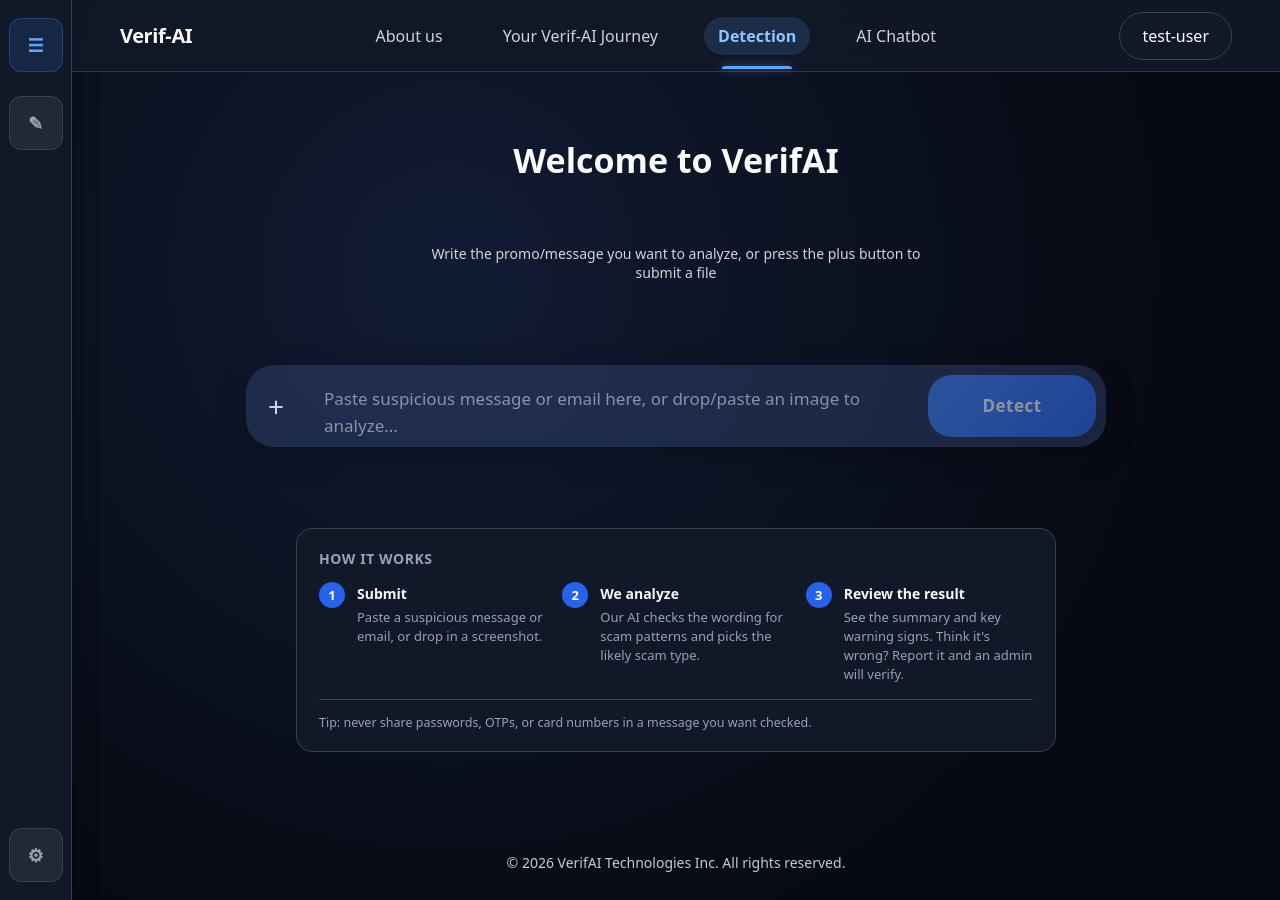
Test: Detection image analysis errors › shows a retry action instead of presenting a failed history request as empty
Click the button named "Menu": x=36, y=45 [8,18,62,72]
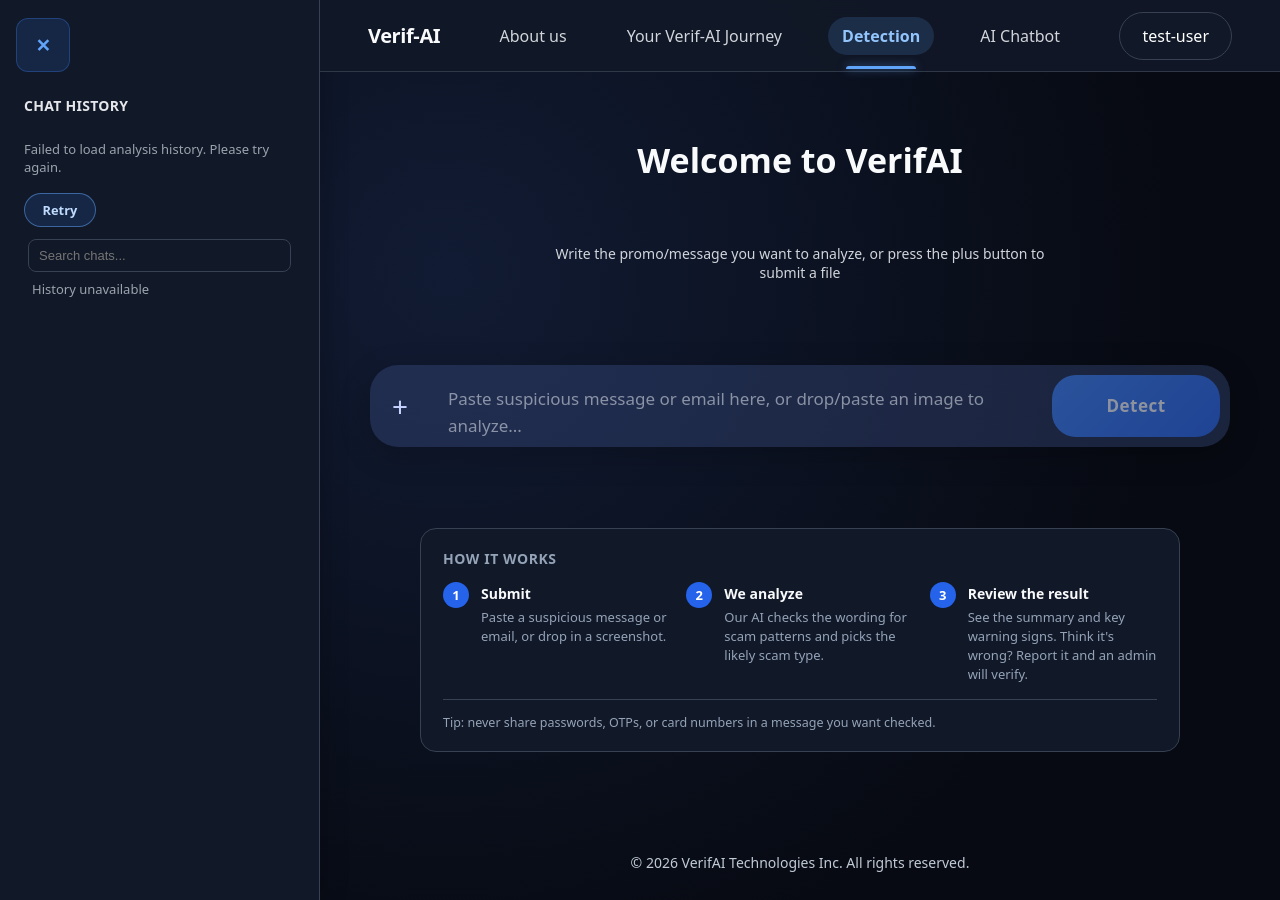
Expected: the message shows "Failed to load analysis history. Please try again.", [24,140,269,176]
Click the button "Retry": x=60, y=210 [24,193,96,227]
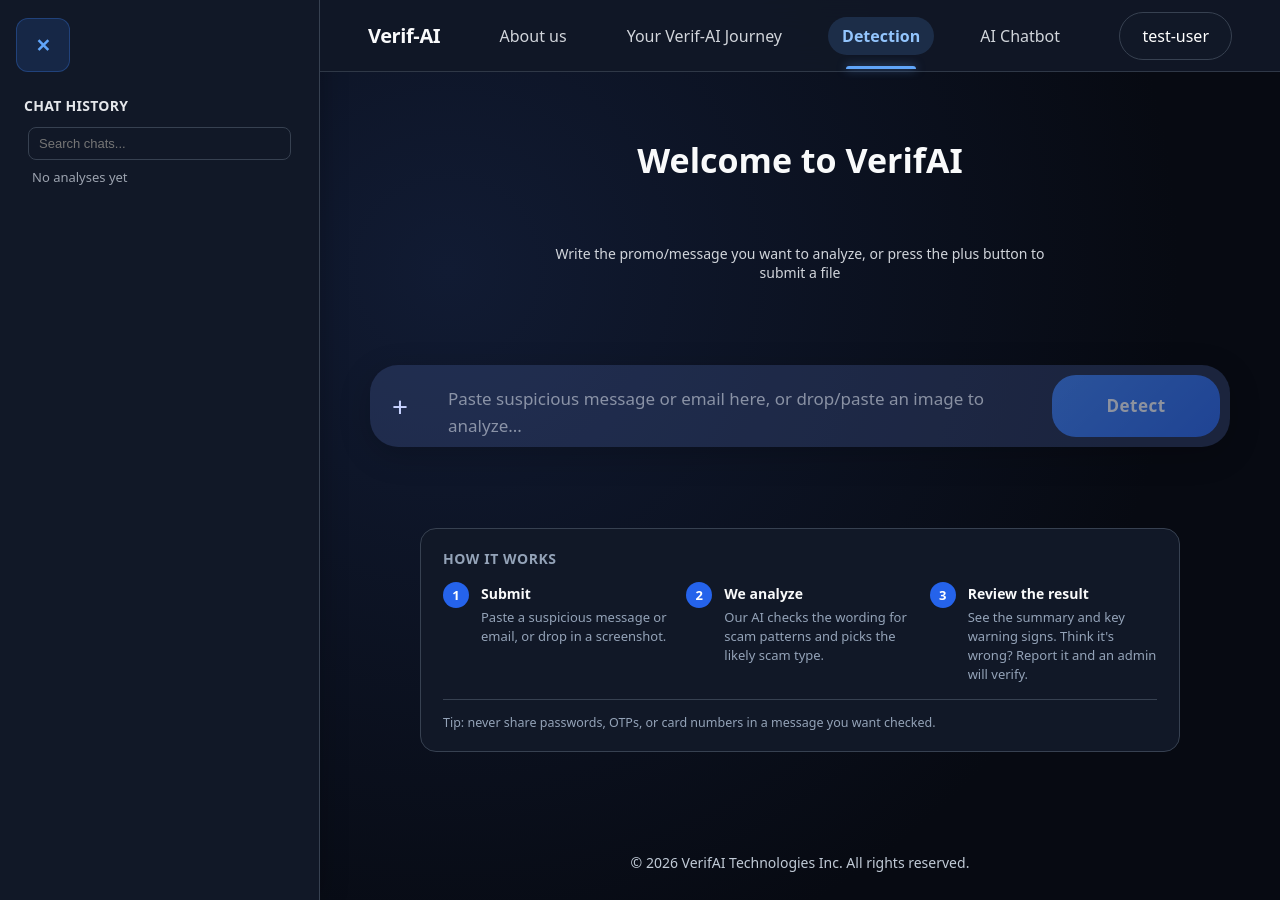
Expected: the text "No analyses yet" is shown, [32,168,128,186]
